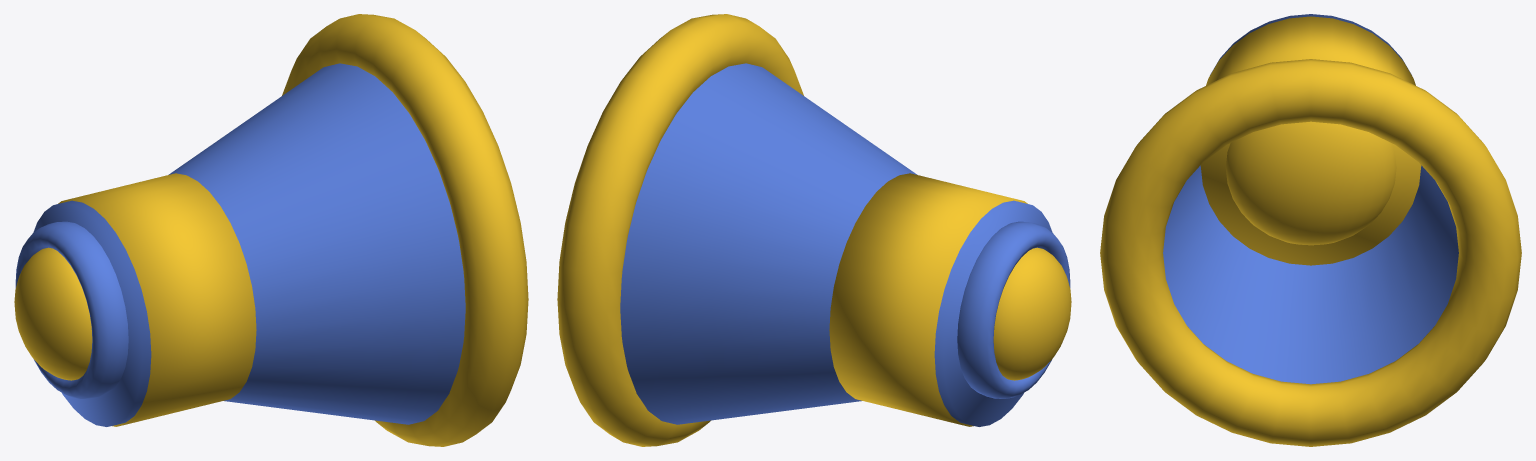
3 renders of one model, left to right at view 1: azimuth 30°, elevation 25°; view 2: azimuth 150°, elevation 25°; view 3: azimuth 270°, elevation 25°, orthographic. The views are drawn at different scales.
Parts seen in each view (by area): view 1: Cylinder.046; view 2: Cylinder.046; view 3: Cylinder.046.
Boxes of the visible parts, x1,y1,x2,y2 form: Cylinder.046: [14, 14, 528, 446]; Cylinder.046: [557, 14, 1071, 446]; Cylinder.046: [1100, 14, 1521, 446].
Size of the model in its own units: 296 by 282 by 282.
